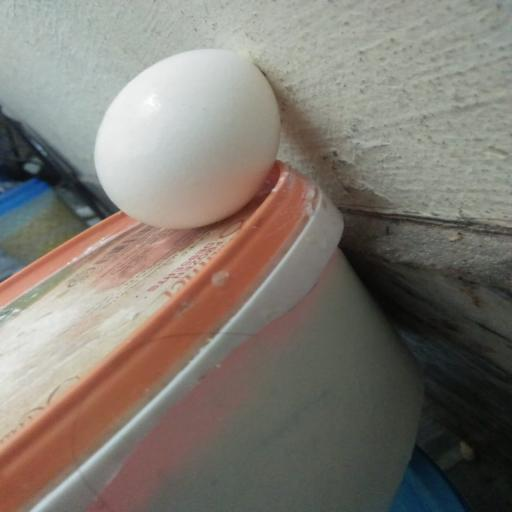telur: (94, 49, 280, 228)
